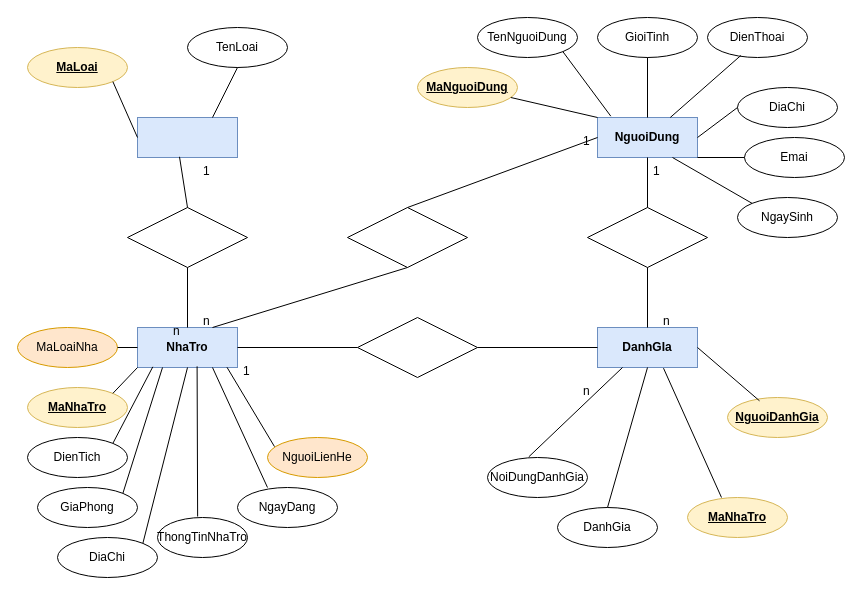
Some shapes in this 862 by 595 pixel diagram are drawn without their labels. Here are the shapes that lost their labels. From the top down, the centre of each, then its label:
At (x=187, y=137): "LoaiNha".
At (x=187, y=237): "GomCo".
At (x=407, y=237): "SoHuu".
At (x=647, y=237): "ThamGIaDG".
At (x=417, y=347): "DuocDG".
